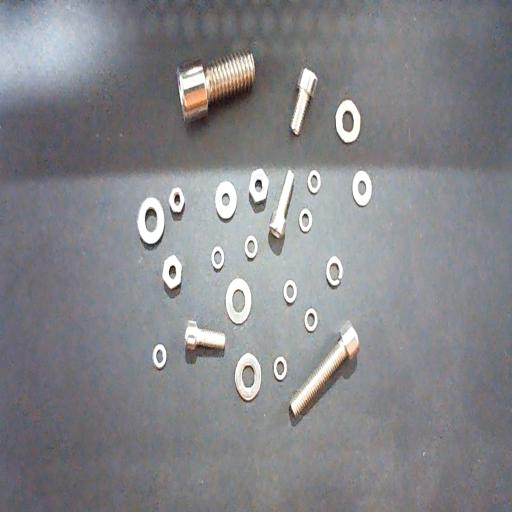nut: (248, 168, 270, 203), (162, 255, 182, 290), (168, 187, 185, 213)
screw: (289, 321, 360, 418), (176, 52, 255, 123), (290, 68, 317, 136), (269, 170, 295, 239), (184, 321, 226, 351)
washer: (137, 196, 165, 244), (235, 353, 261, 401), (226, 278, 252, 325), (335, 99, 360, 143), (215, 181, 237, 219), (352, 170, 372, 206), (326, 256, 343, 286), (274, 356, 288, 381), (153, 344, 166, 370), (283, 280, 297, 304), (304, 308, 318, 332), (307, 170, 321, 194), (211, 246, 224, 270), (245, 235, 258, 259), (299, 208, 312, 232)
